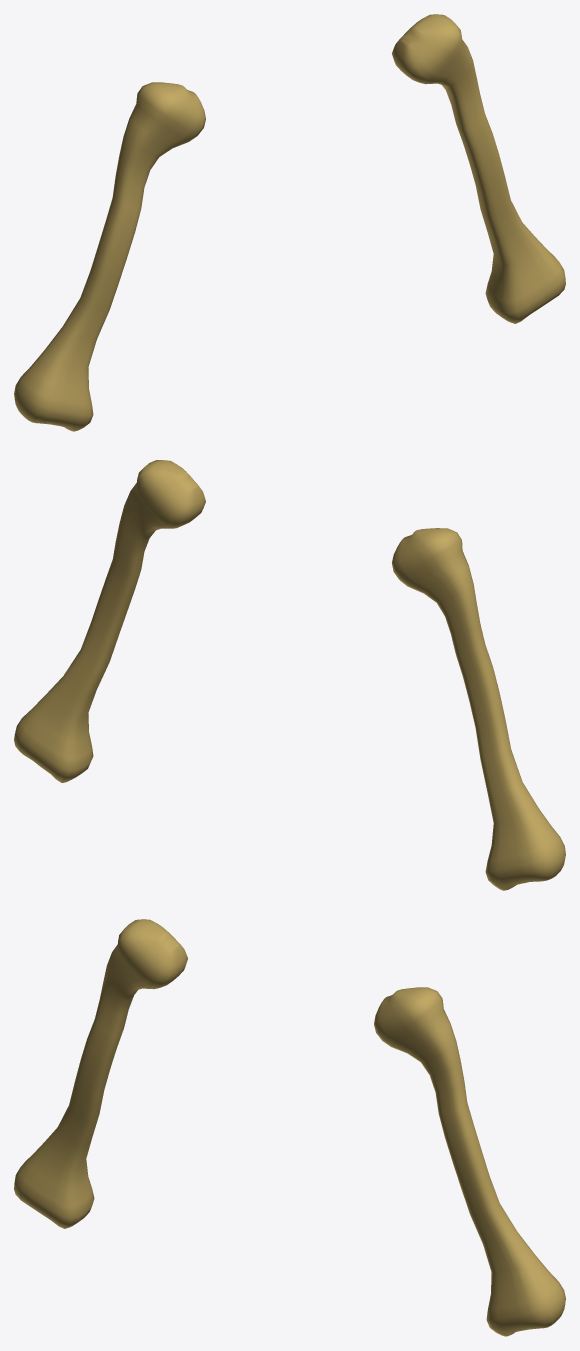
The model's file is Humerus.obj.
3 renders of one model, top to bottom at view 1: azimuth 30°, elevation 25°; view 2: azimuth 150°, elevation 25°; view 3: azimuth 330°, elevation 25°, orthographic.
Parts seen in each view (by area): view 1: Humerus_Cube.008; view 2: Humerus_Cube.008; view 3: Humerus_Cube.008.
Part boxes in pixels (x1,y1,x2,y2): Humerus_Cube.008: (14, 14, 565, 431); Humerus_Cube.008: (14, 460, 565, 890); Humerus_Cube.008: (14, 919, 565, 1336).
Bounding box in the file's own units: 4.79 × 2.79 × 0.5911.
